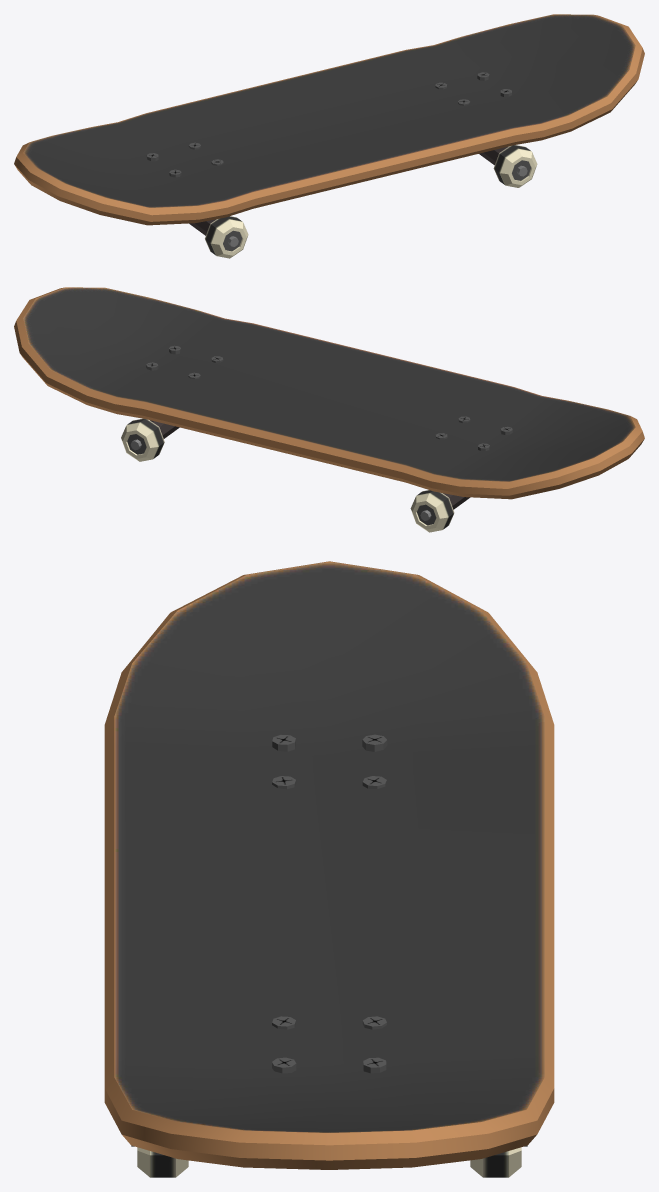
File: skate.fbx
The picture shows the model from 3 angles, top to bottom: view 1: azimuth 30°, elevation 25°; view 2: azimuth 150°, elevation 25°; view 3: azimuth 270°, elevation 25°; orthographic projection. The views are drawn at different scales.
Visible parts, largest first — view 1: skate; view 2: skate; view 3: skate.
Boxes of the visible parts, left/top/right/bottom form: skate: left=14, top=14, right=644, bottom=258; skate: left=14, top=287, right=644, bottom=532; skate: left=104, top=561, right=554, bottom=1177.
Size of the model in its own units: 2.52 by 0.3749 by 0.8135.
Materials: 1 (1 with a texture image).
